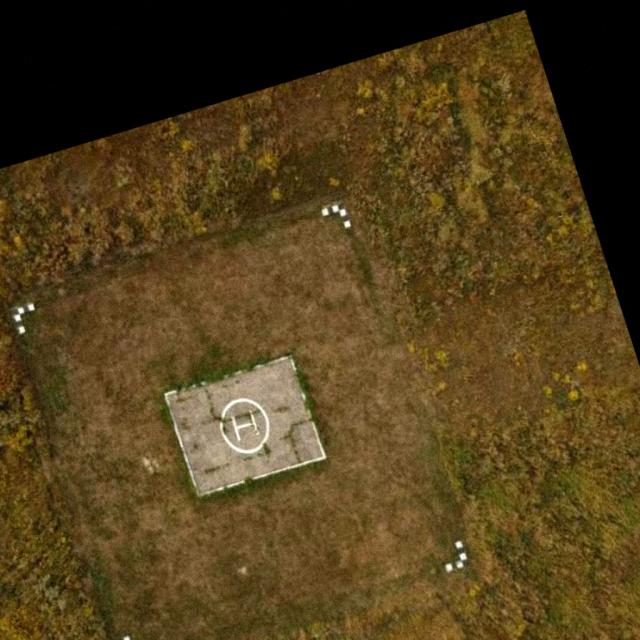helipad: (217, 395, 270, 455)
